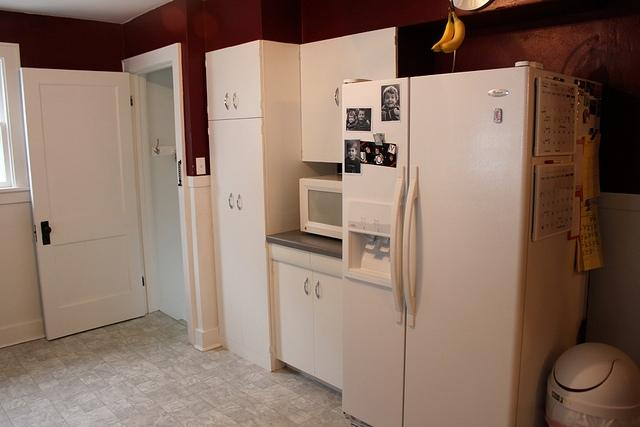banana: (439, 8, 465, 53), (431, 8, 454, 52)
